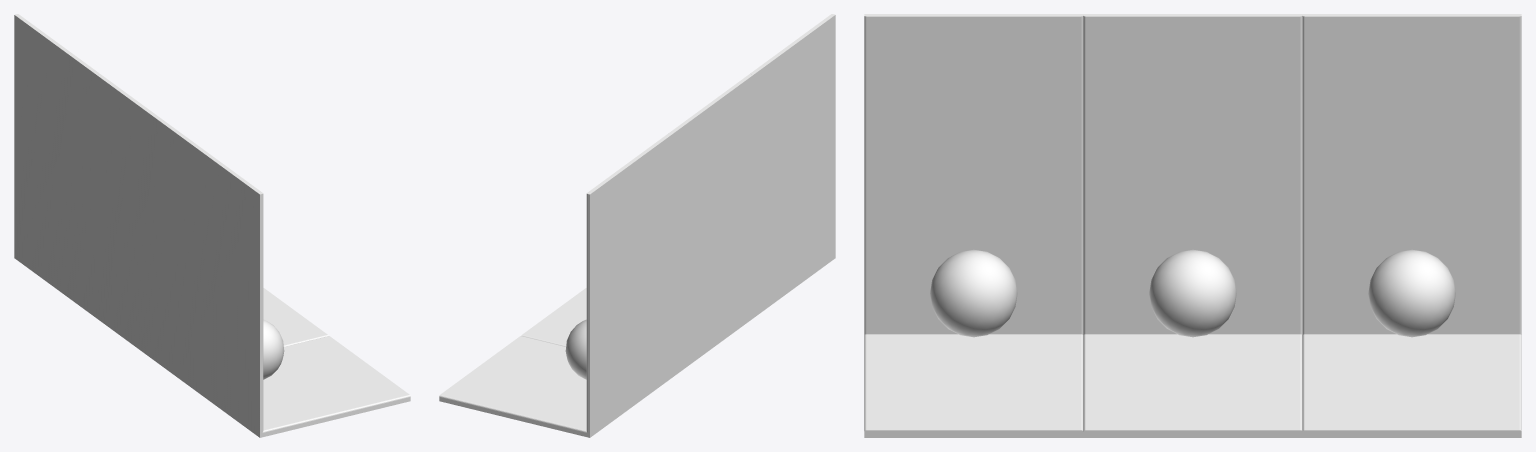
The model's file is StudioLighting.fbx.
3 views of the same model, side by side, from view 1: azimuth 30°, elevation 25°; view 2: azimuth 150°, elevation 25°; view 3: azimuth 270°, elevation 25° (orthographic). The views are drawn at different scales.
Parts seen in each view (by area): view 1: Backdrop.001, Backdrop.002, Backdrop.003, Icosphere.001; view 2: Backdrop.003, Backdrop.002, Backdrop.001, Icosphere.003; view 3: Backdrop.001, Backdrop.003, Backdrop.002, Icosphere.002, Icosphere.003, Icosphere.001.
Part boxes in pixels (box(x1,y1,x2,y2)): Backdrop.001: box(178, 134, 410, 437); Backdrop.002: box(96, 74, 328, 377); Backdrop.003: box(14, 14, 99, 317); Icosphere.001: box(263, 319, 284, 379); Backdrop.003: box(439, 134, 671, 437); Backdrop.002: box(521, 74, 753, 377); Backdrop.001: box(750, 14, 835, 317); Icosphere.003: box(565, 319, 586, 379); Backdrop.001: box(864, 14, 1083, 437); Backdrop.003: box(1302, 14, 1521, 437); Backdrop.002: box(1083, 14, 1302, 437); Icosphere.002: box(1149, 249, 1236, 337); Icosphere.003: box(1368, 249, 1455, 337); Icosphere.001: box(930, 249, 1017, 337).
Bounding box in the file's own units: 531 × 820 × 1500.
